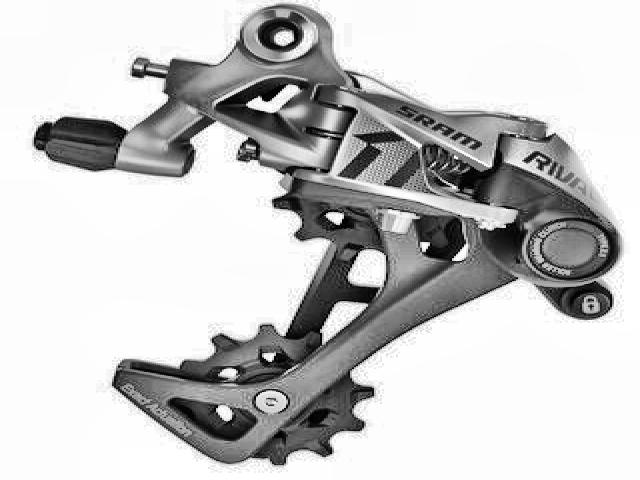rear_derailleur: (30, 2, 622, 472)
